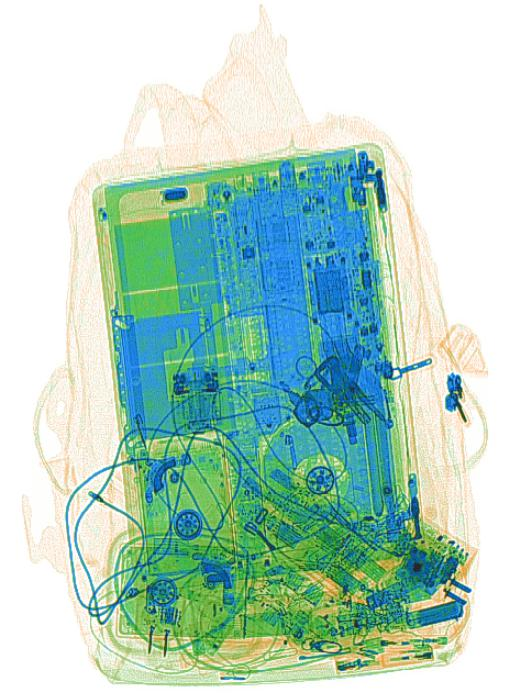USBFlashDisk: (234, 478, 389, 602)
battery: (404, 598, 465, 630)
lighter: (331, 629, 450, 672)
